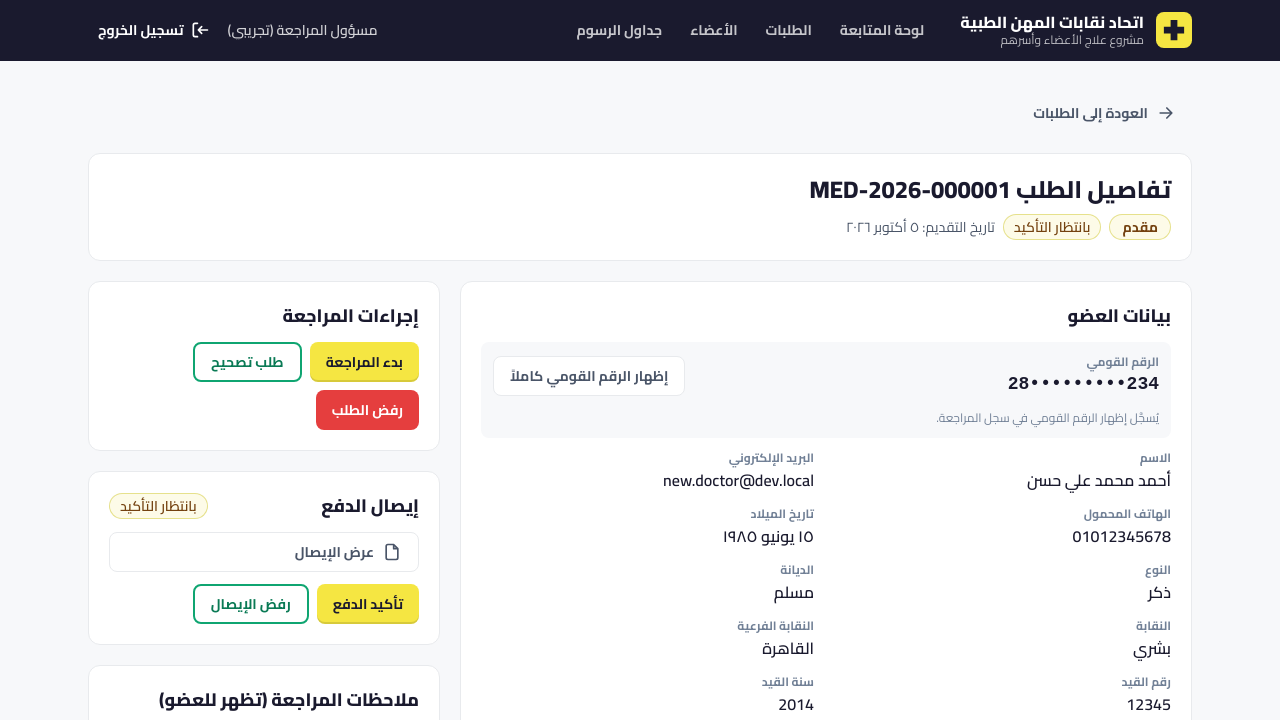
Test: AdminApplicationDetailPage (PROMPT.md §44) › opens the receipt in the viewer
Expected: the heading "تفاصيل الطلب MED-2026-000001" is shown, [810,174,1171,206]
Click the button "عرض الإيصال".
click(334, 552)  # box [109,532,419,572]
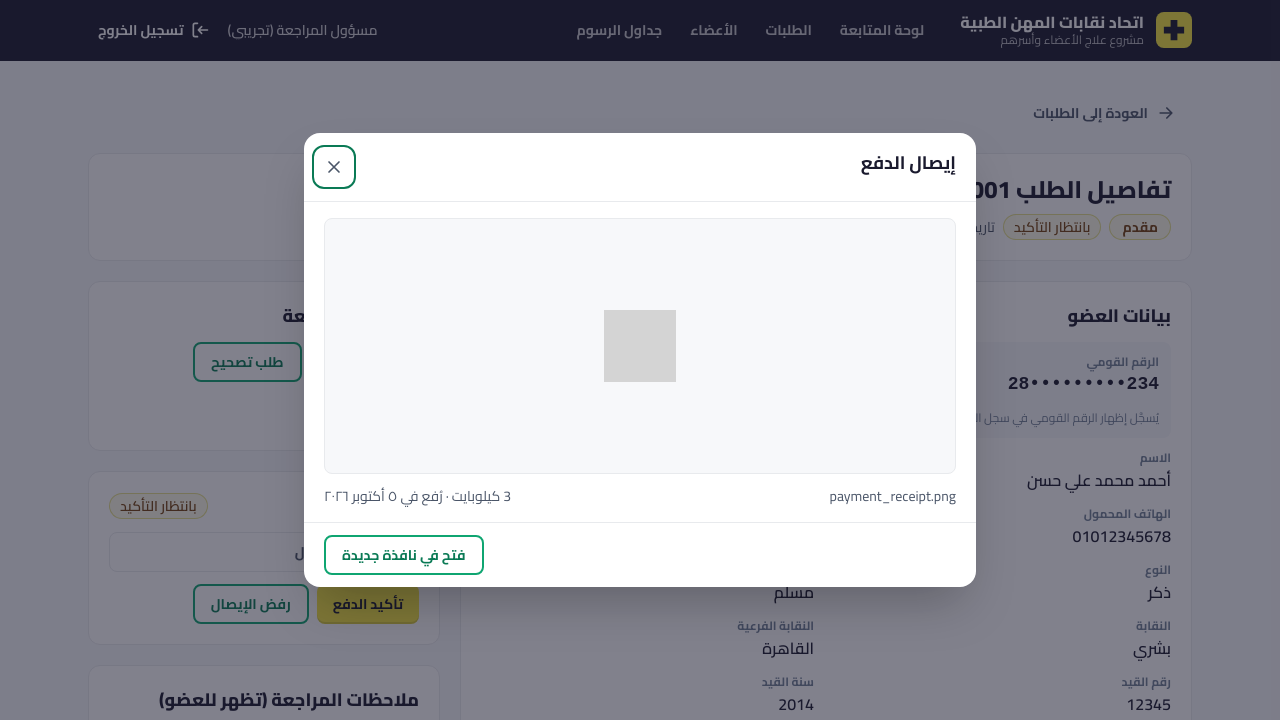
Expected: the dialog "إيصال الدفع" is shown, [304,133,976,587]
